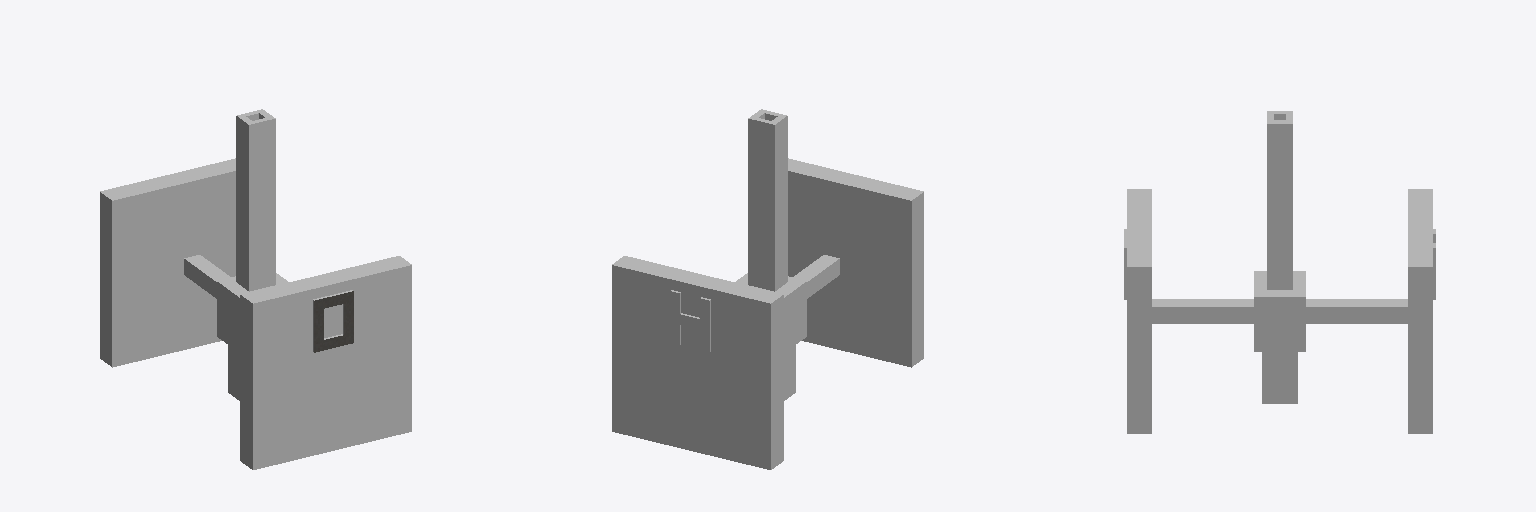
3 views of the same model, side by side, from view 1: azimuth 30°, elevation 25°; view 2: azimuth 150°, elevation 25°; view 3: azimuth 270°, elevation 25° (orthographic).
Parts seen in each view (by area): view 1: Cube_Cube.001; view 2: Cube_Cube.001; view 3: Cube_Cube.001.
Boxes of the visible parts, x1,y1,x2,y2 form: Cube_Cube.001: [100, 109, 411, 469]; Cube_Cube.001: [612, 109, 923, 469]; Cube_Cube.001: [1124, 111, 1435, 433].
Bounding box in the file's own units: 0.6 × 1 × 1.02.
2 materials, 1 textured.